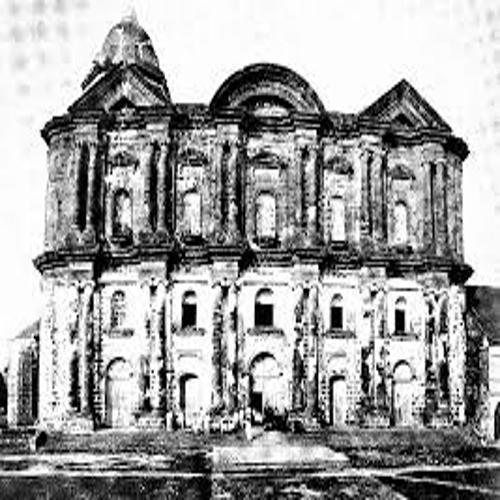Taal Basilica Church: (35, 2, 481, 441)
